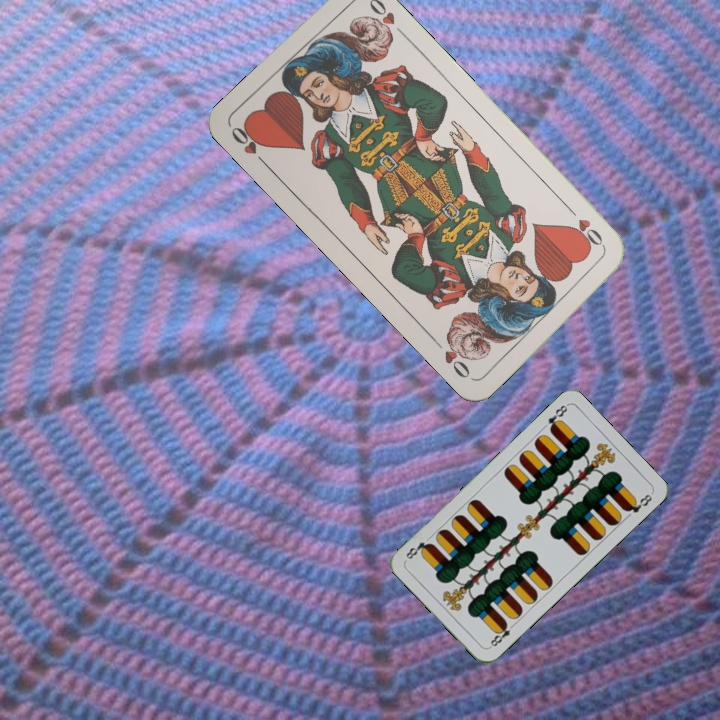E8: (485, 618, 518, 650), (544, 401, 570, 434)
HO: (227, 120, 272, 171), (564, 203, 609, 251)
